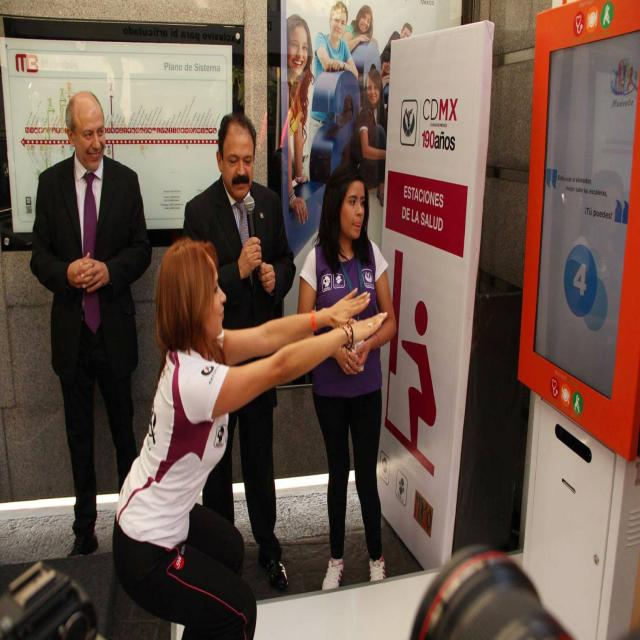body: (109, 234, 390, 639), (28, 89, 155, 569), (180, 108, 299, 598), (297, 160, 399, 596), (552, 49, 628, 382), (106, 25, 298, 148), (307, 2, 359, 182), (284, 13, 315, 227), (354, 67, 388, 208), (340, 4, 374, 58), (378, 22, 414, 70), (380, 50, 391, 104)
